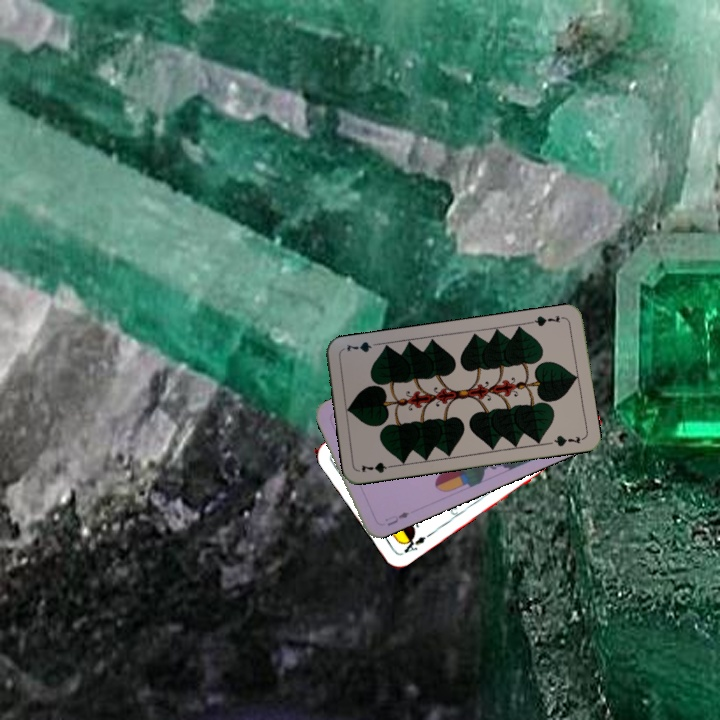EA: (397, 531, 428, 556)
EU: (381, 508, 412, 528)
G7: (357, 458, 398, 476), (527, 311, 567, 329)
